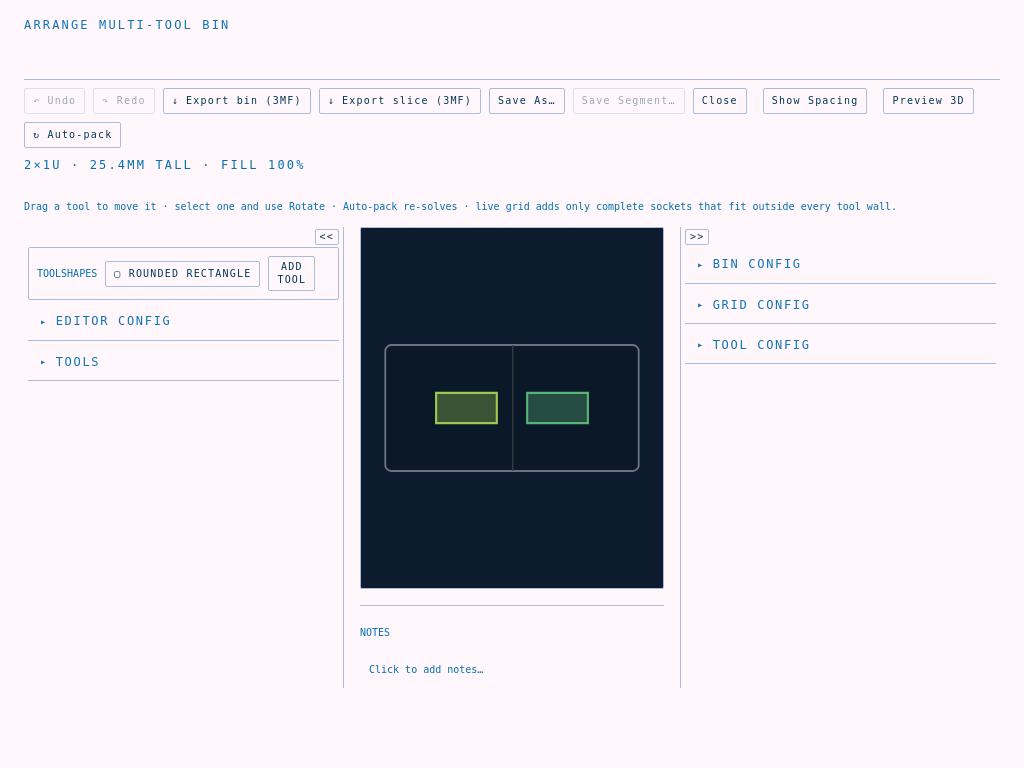
Test case: CombineEditor add/remove tools › picking a tool arms placement mode and closes the picker
Click the button titled "Add an existing tool from the Tool Library — placed by clicking the grid". click: [292, 274]
box: [268,256,315,291]
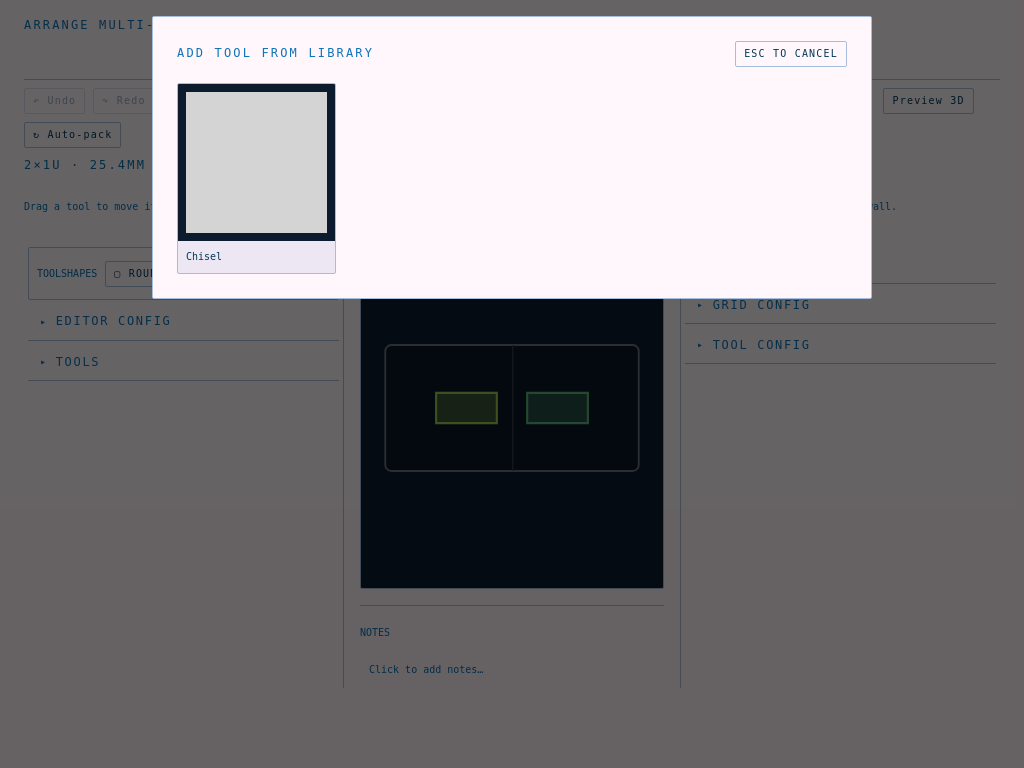
Click the button "Chisel". click: [256, 178]
box: [177,83,336,274]
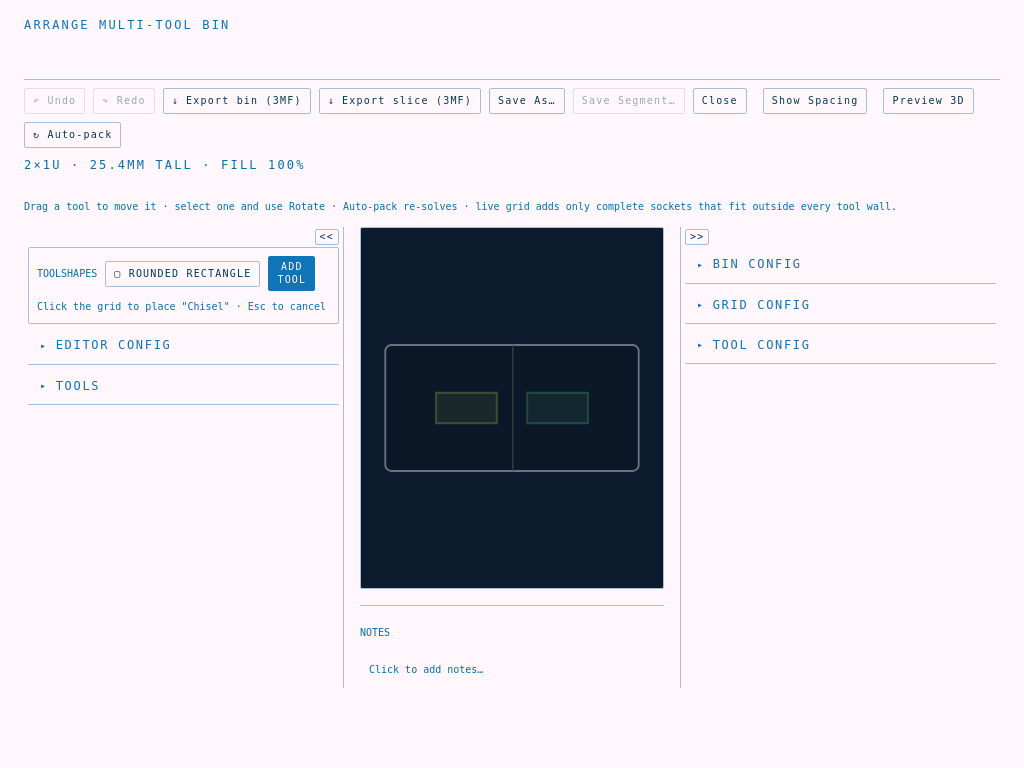
Result: the text "Add tool from library" is gone
